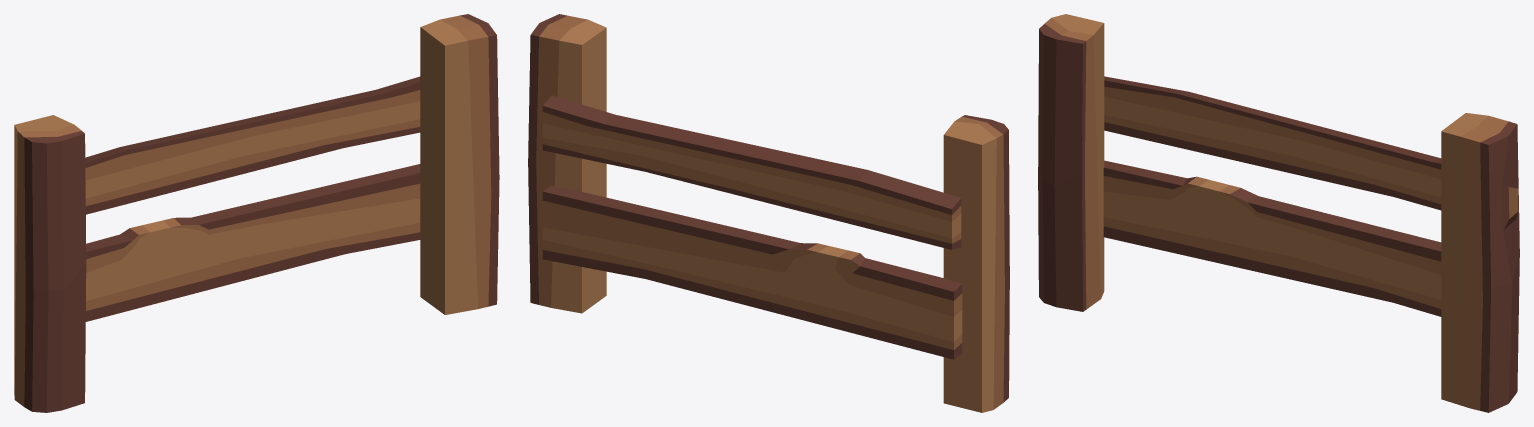
Rendered from fence_plank_fixed.fbx.
3 renders of one model, left to right at view 1: azimuth 30°, elevation 25°; view 2: azimuth 150°, elevation 25°; view 3: azimuth 330°, elevation 25°, orthographic.
Visible parts, largest first — view 1: fence_plank_fixed; view 2: fence_plank_fixed; view 3: fence_plank_fixed.
Part boxes in pixels (x1,y1,x2,y2): fence_plank_fixed: (14, 14, 499, 412); fence_plank_fixed: (528, 14, 1009, 412); fence_plank_fixed: (1038, 14, 1519, 412).
Bounding box in the file's own units: 126 × 69.46 × 18.58.
